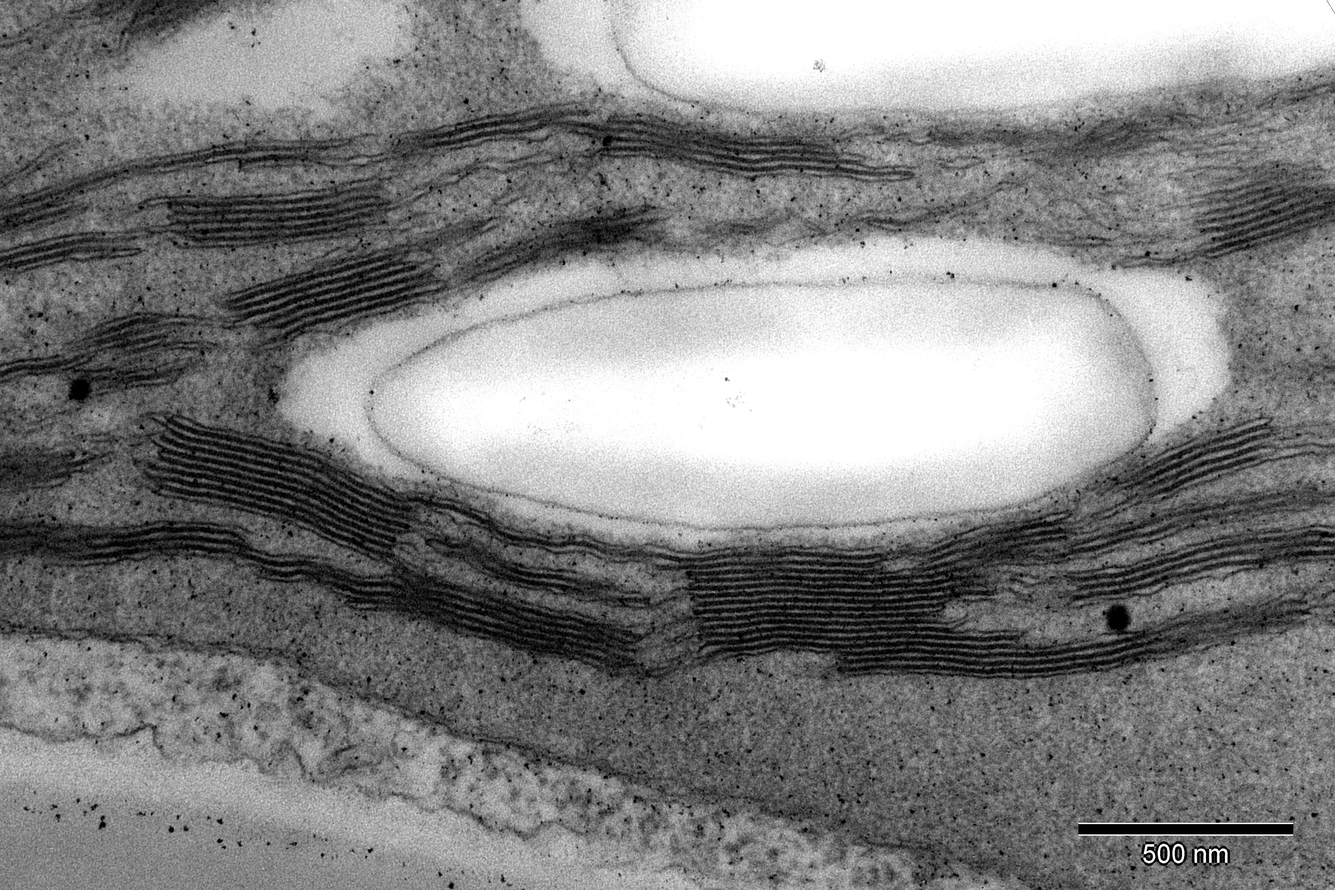granum: (680, 541, 1313, 681), (245, 545, 656, 683), (903, 481, 1321, 609), (133, 408, 424, 571), (214, 238, 456, 355), (1058, 520, 1335, 612), (596, 109, 872, 187), (162, 172, 395, 251), (0, 509, 276, 571), (1107, 411, 1285, 506), (1181, 155, 1335, 264), (449, 532, 631, 612), (58, 307, 188, 398), (386, 98, 562, 164), (520, 197, 668, 271), (0, 225, 145, 282), (1023, 111, 1174, 161), (0, 171, 91, 242), (0, 438, 95, 501), (236, 132, 369, 175), (93, 0, 228, 31)
